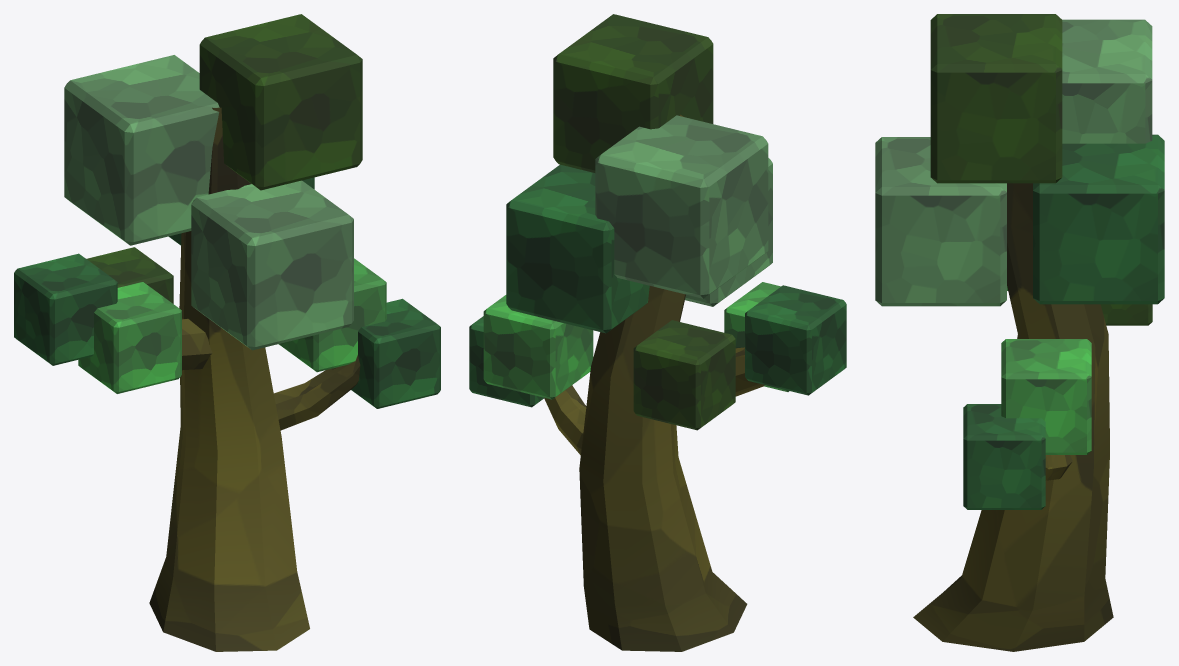
3 renders of one model, left to right at view 1: azimuth 30°, elevation 25°; view 2: azimuth 150°, elevation 25°; view 3: azimuth 270°, elevation 25°, orthographic. The views are drawn at different scales.
Parts seen in each view (by area): view 1: pCube26; view 2: pCube26; view 3: pCube26.
Boxes of the visible parts, x1=… form: pCube26: x1=14, y1=14, x2=440, y2=651; pCube26: x1=469, y1=14, x2=846, y2=651; pCube26: x1=875, y1=14, x2=1164, y2=651.
Size of the model in its own units: 13.99 by 20.4 by 8.9.
5 materials, 5 textured.
